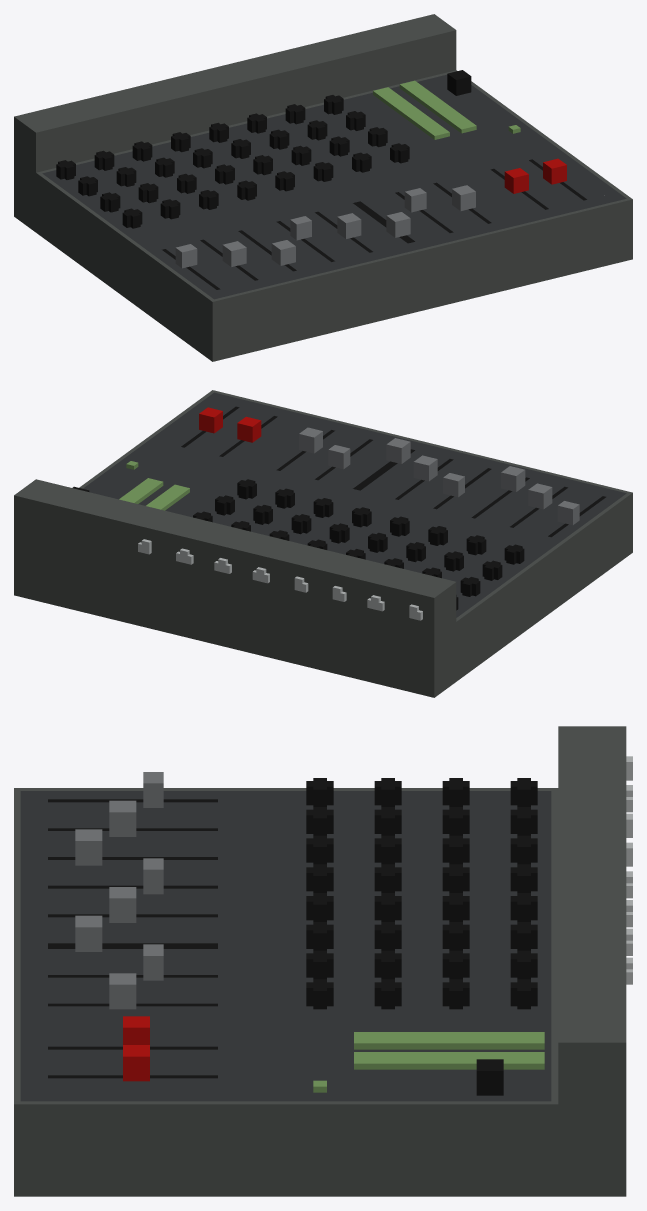
Rendered from mixer.glb.
3 views of the same model, one above another, from view 1: azimuth 30°, elevation 25°; view 2: azimuth 150°, elevation 25°; view 3: azimuth 270°, elevation 25° (orthographic). The views are drawn at different scales.
Visible parts, largest first — view 1: mixer:compound; view 2: mixer:compound; view 3: mixer:compound.
Boxes of the visible parts, x1,y1,x2,y2 form: mixer:compound: (14, 14, 632, 361); mixer:compound: (14, 390, 632, 697); mixer:compound: (14, 726, 632, 1196).
Size of the model in its own units: 0.44 by 0.1 by 0.364.
